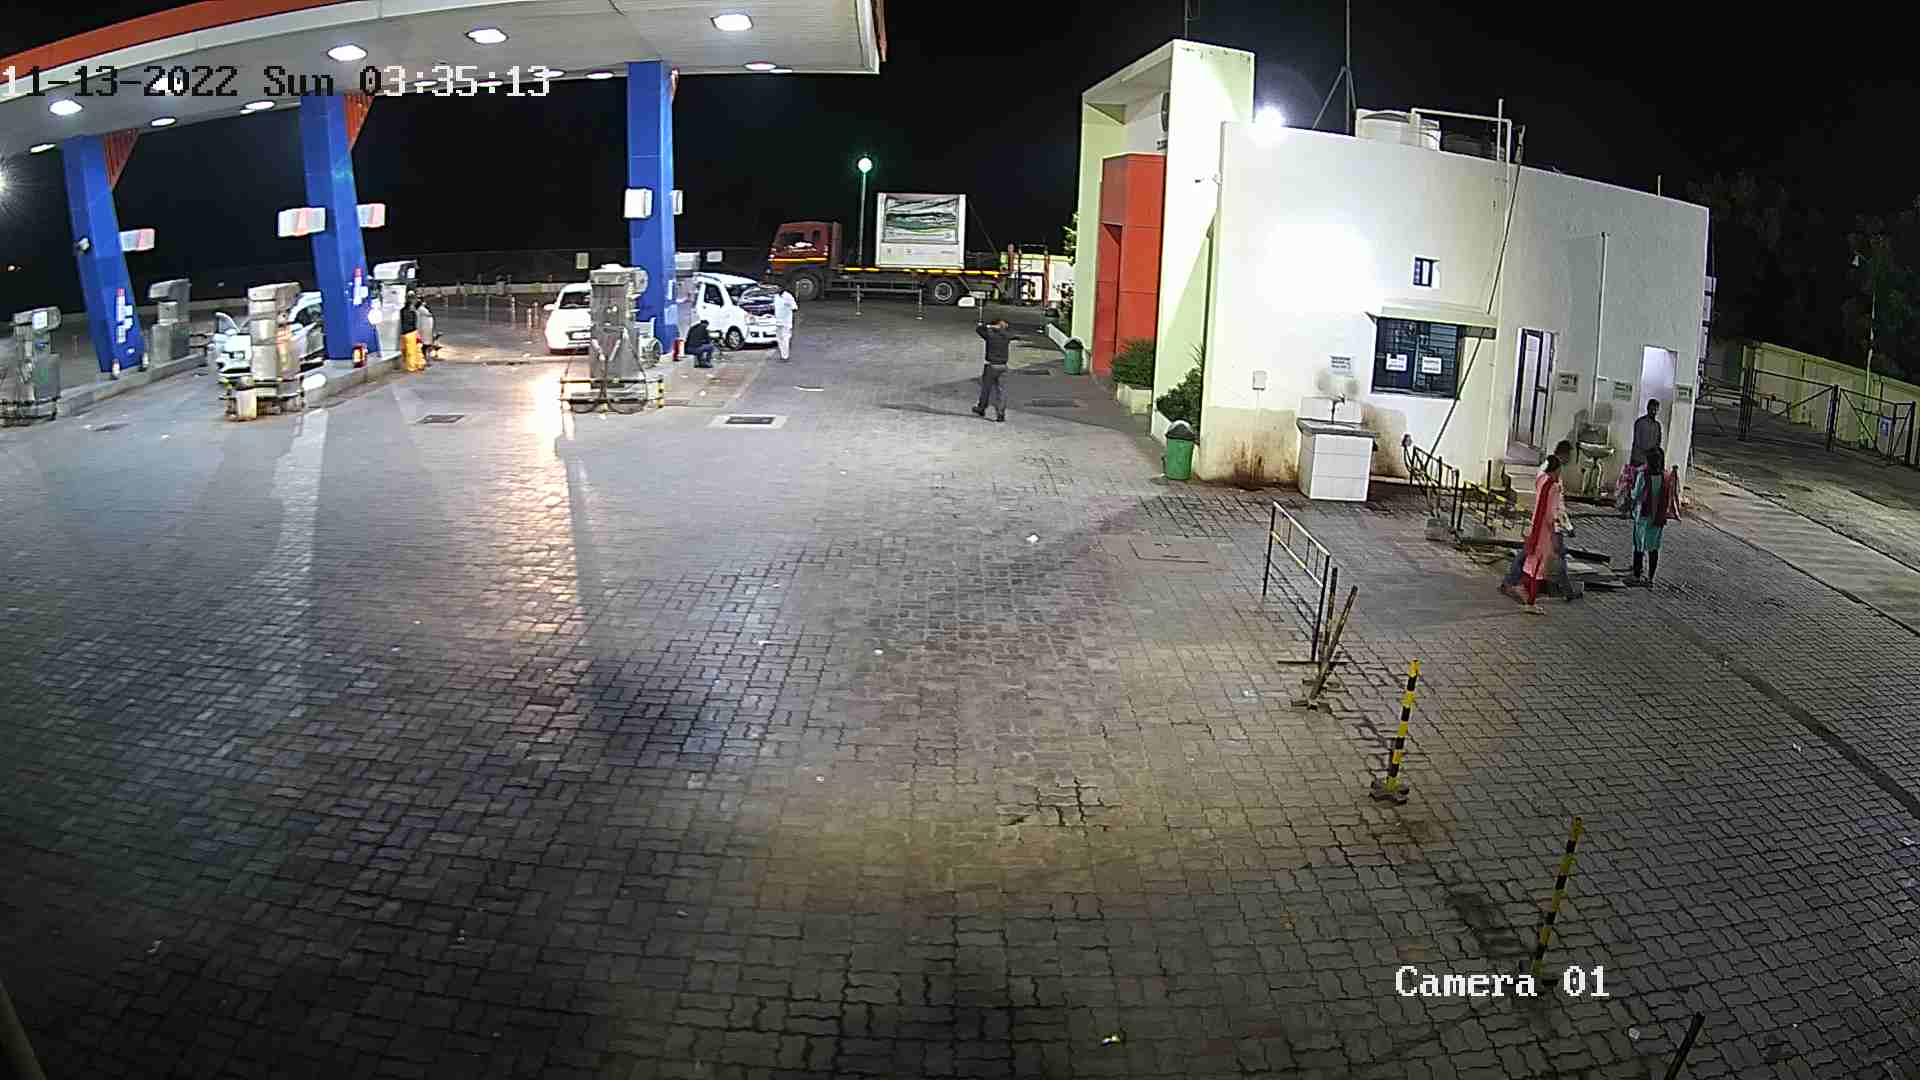Car: (208, 286, 327, 396), (676, 264, 791, 351), (539, 280, 601, 357)
HMV: (754, 185, 1051, 311)
